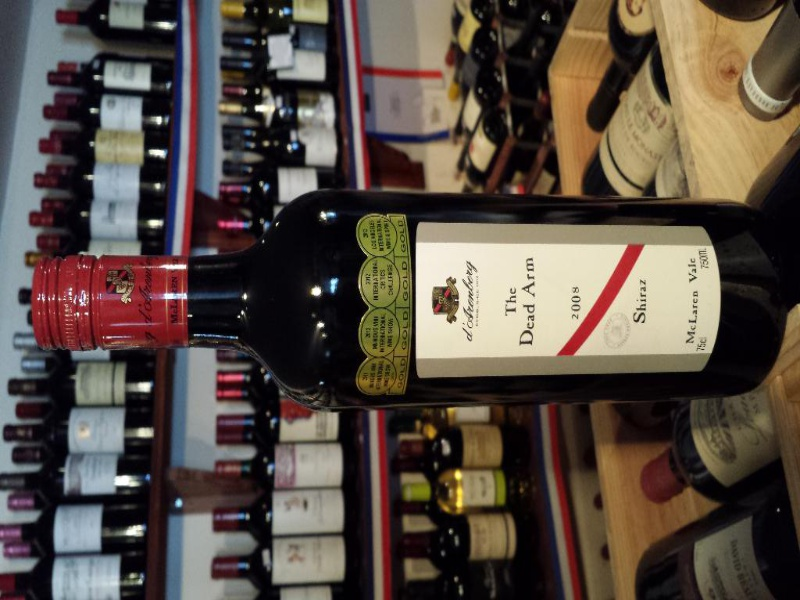wine: (4, 1, 795, 600), (24, 180, 789, 407)
